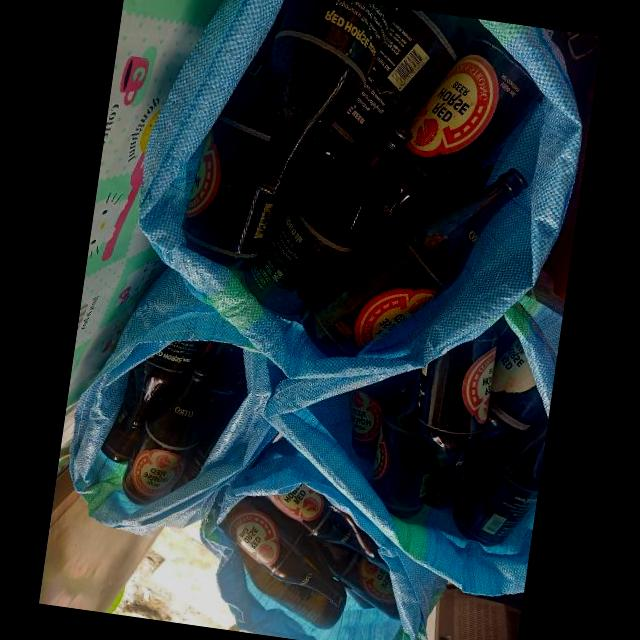chai_thuy_tinh: (331, 31, 545, 283), (301, 167, 528, 357), (275, 9, 468, 214), (243, 121, 413, 316), (255, 0, 397, 196), (180, 34, 278, 271), (416, 324, 498, 505), (218, 496, 345, 606), (453, 415, 548, 547), (121, 365, 208, 505), (370, 368, 432, 519), (239, 547, 346, 630), (307, 533, 400, 620), (481, 339, 546, 443), (127, 341, 199, 428), (268, 483, 357, 551), (349, 371, 410, 459), (327, 503, 389, 574), (100, 390, 144, 464)
